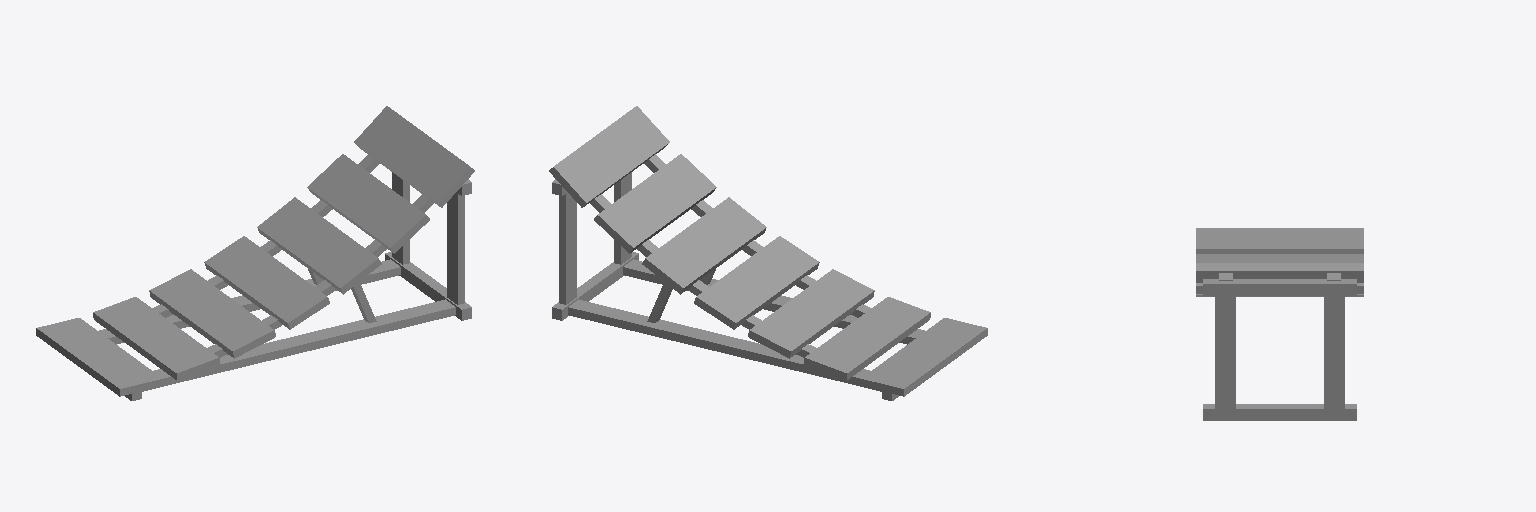
File: Ramp_low_v.obj
The picture shows the model from 3 angles: view 1: azimuth 30°, elevation 25°; view 2: azimuth 150°, elevation 25°; view 3: azimuth 270°, elevation 25°; orthographic projection.
Visible parts, largest first — view 1: visible_Cube.002; view 2: visible_Cube.002; view 3: visible_Cube.002.
Part boxes in pixels (left/top/right/bottom): visible_Cube.002: left=36, top=106, right=474, bottom=400; visible_Cube.002: left=549, top=106, right=987, bottom=400; visible_Cube.002: left=1196, top=228, right=1363, bottom=420.
Bounding box in the file's own units: 4.92 × 2.05 × 2.